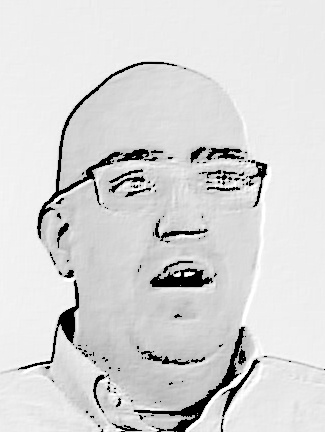nose_M_C: (152, 185, 211, 257)
